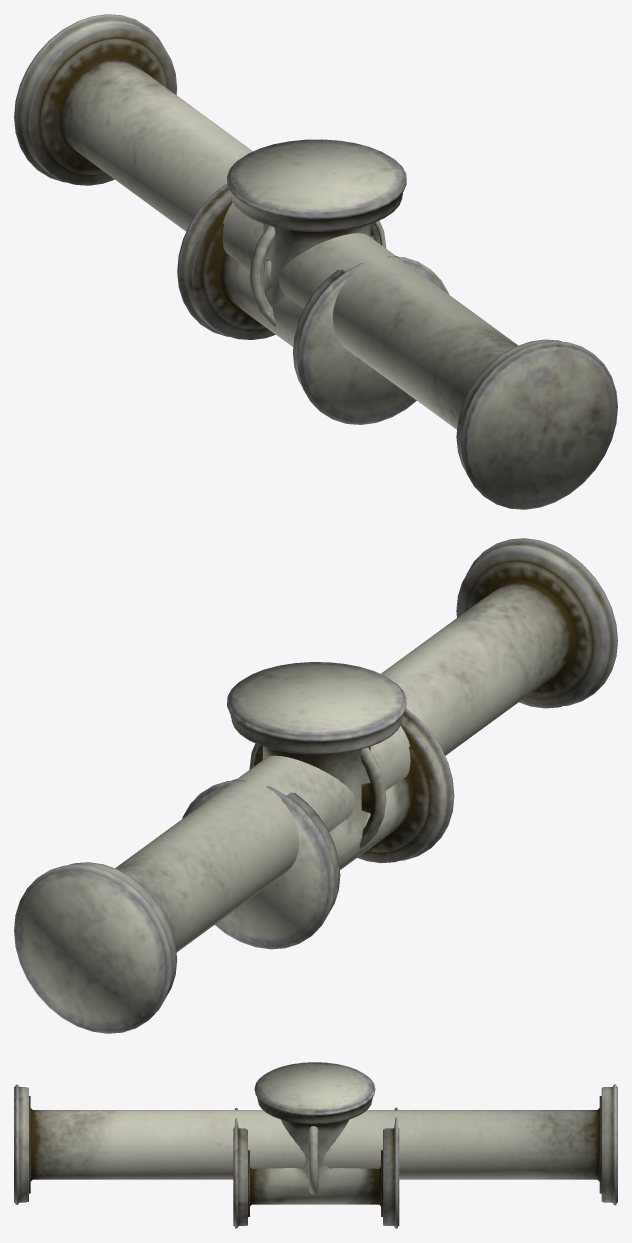
The model's file is industrial_pipes_pack.glb.
The picture shows the model from 3 angles, top to bottom: view 1: azimuth 30°, elevation 25°; view 2: azimuth 150°, elevation 25°; view 3: azimuth 270°, elevation 25°; orthographic projection. The views are drawn at different scales.
Parts seen in each view (by area): view 1: Cylinder.036_Pipe_0, Cylinder.011_Pipe_0, Torus.001_Pipe_0; view 2: Cylinder.036_Pipe_0, Cylinder.011_Pipe_0, Torus.001_Pipe_0; view 3: Cylinder.036_Pipe_0, Cylinder.011_Pipe_0, Torus.001_Pipe_0.
Boxes of the visible parts, left/top/right/bottom form: Cylinder.036_Pipe_0: left=14, top=14, right=617, bottom=509; Cylinder.011_Pipe_0: left=177, top=139, right=448, bottom=424; Torus.001_Pipe_0: left=249, top=220, right=386, bottom=327; Cylinder.036_Pipe_0: left=14, top=538, right=617, bottom=1033; Cylinder.011_Pipe_0: left=182, top=662, right=454, bottom=949; Torus.001_Pipe_0: left=249, top=743, right=386, bottom=848; Cylinder.036_Pipe_0: left=14, top=1084, right=617, bottom=1205; Cylinder.011_Pipe_0: left=233, top=1062, right=399, bottom=1228; Torus.001_Pipe_0: left=308, top=1126, right=318, bottom=1194.
Size of the model in its own units: 0.8128 by 1.01 by 4.05.
1 material, 1 textured.
